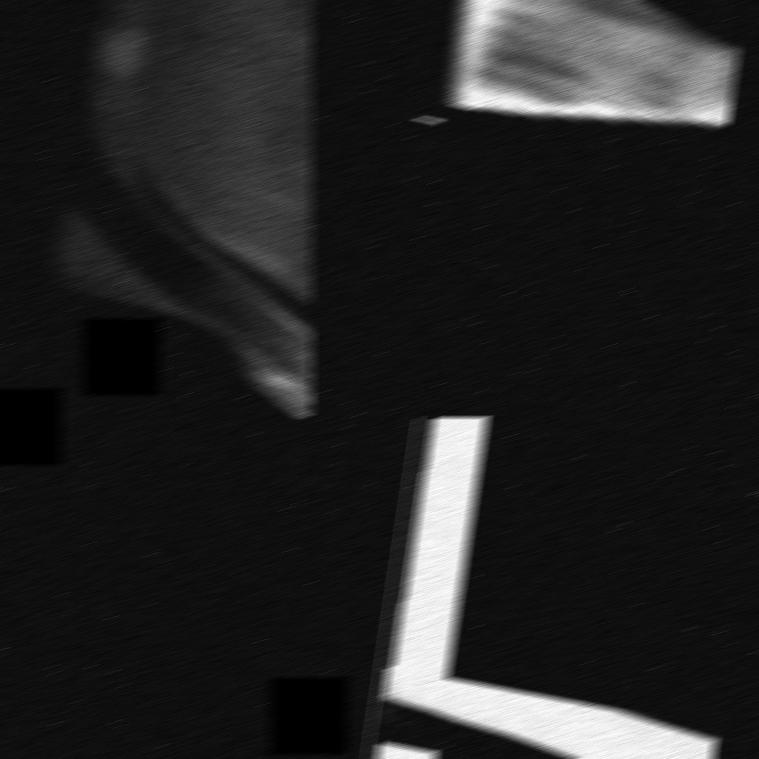Airbag: (0, 0, 313, 416), (447, 0, 740, 119), (381, 668, 717, 758)
